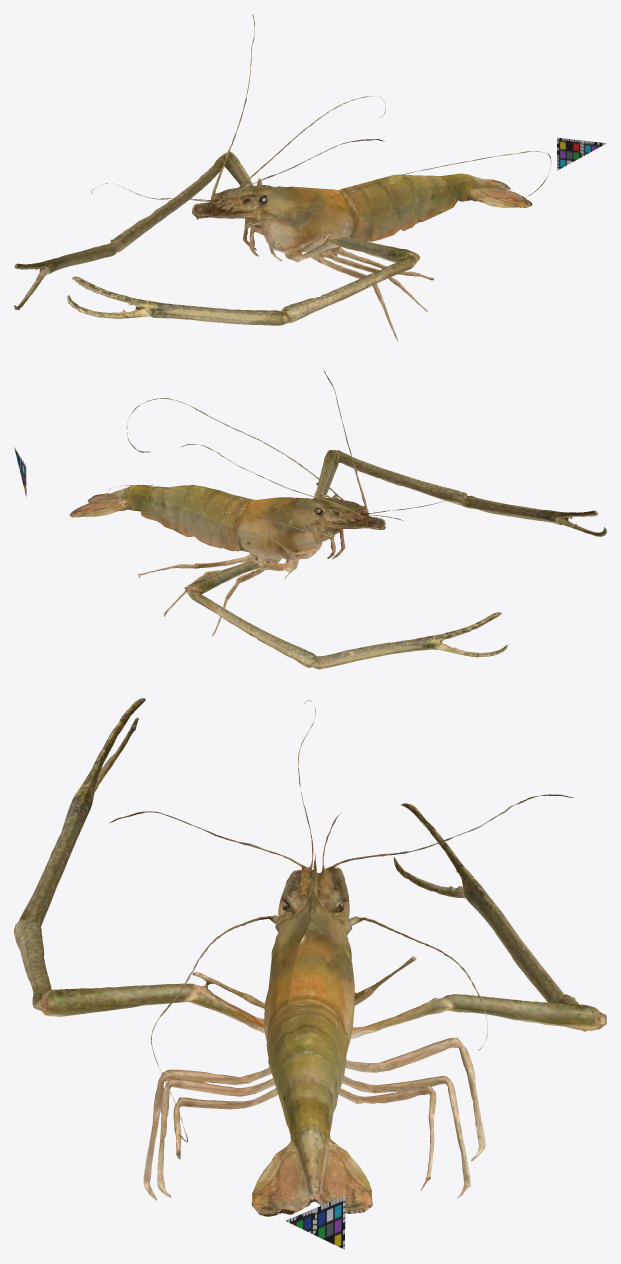
Rendered from river_prawn.glb.
3 views of the same model, one above another, from view 1: azimuth 30°, elevation 25°; view 2: azimuth 150°, elevation 25°; view 3: azimuth 270°, elevation 25° (orthographic). The views are drawn at different scales.
Visible parts, largest first — view 1: Object_6, Object_4; view 2: Object_6; view 3: Object_6, Object_4.
Part boxes in pixels (x1,y1,x2,y2): Object_6: (14,14,551,341); Object_4: (557,137,606,170); Object_6: (69,371,606,669); Object_6: (14,698,606,1216); Object_4: (285,1196,345,1249).
Bounding box in the file's own units: 15.58 × 6.07 × 8.37.
2 materials, 2 textured.
